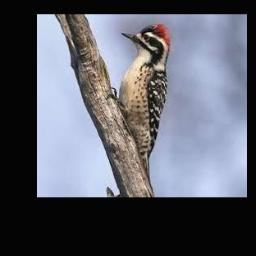Woodpecker: (107, 24, 172, 179)
